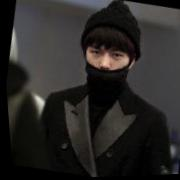WRONG: (78, 37, 135, 94)
